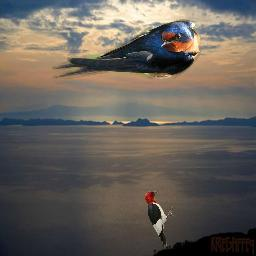Swallow: (52, 19, 201, 79)
Woodpecker: (144, 189, 174, 248)
